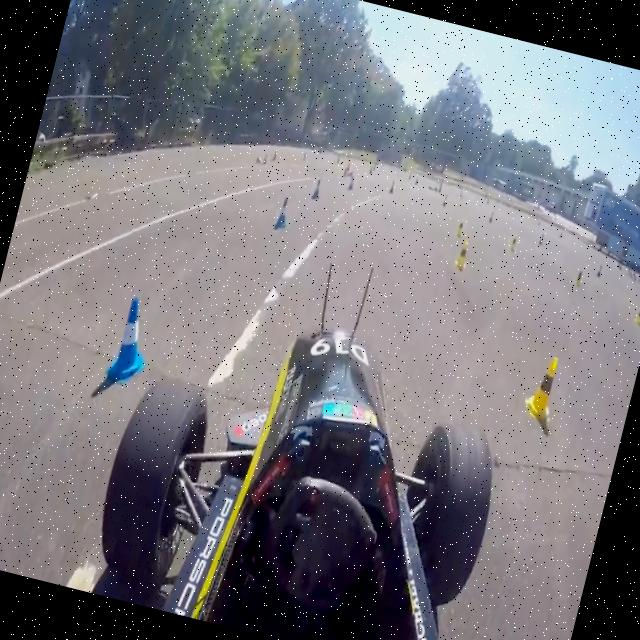blue_cone: (104, 286, 156, 382), (271, 194, 295, 230), (308, 173, 324, 208)
yellow_cone: (526, 352, 560, 418), (450, 234, 473, 274)
